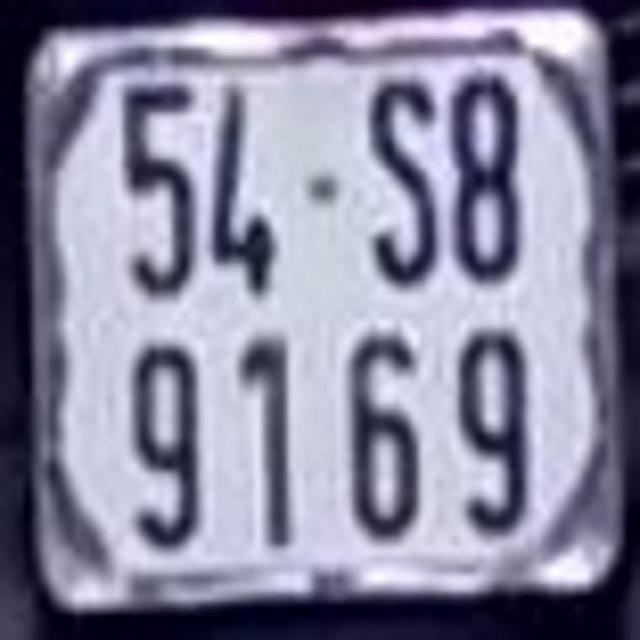1: (234, 331, 297, 544)
4: (207, 76, 284, 295)
5: (111, 69, 196, 308)
6: (329, 314, 426, 548)
8: (449, 64, 523, 283)
9: (455, 314, 533, 544), (129, 342, 203, 548)
S: (357, 66, 439, 289)
